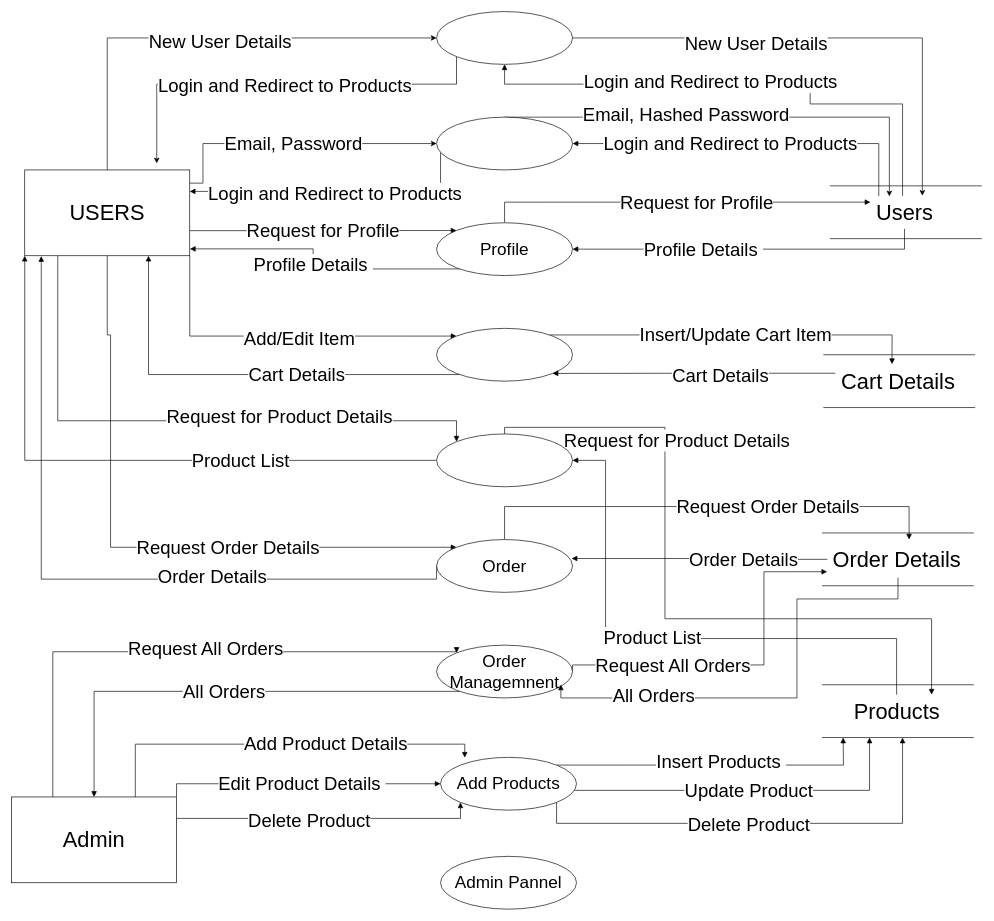
This 994x921 diagram has some shape labels left out. Here are the shapes that lost their labels. From the top down, the centre of each, then its label:
At [504,37]: "Register".
At [504,143]: "Login".
At [504,354]: "Cart".
At [504,460]: "View Products".
